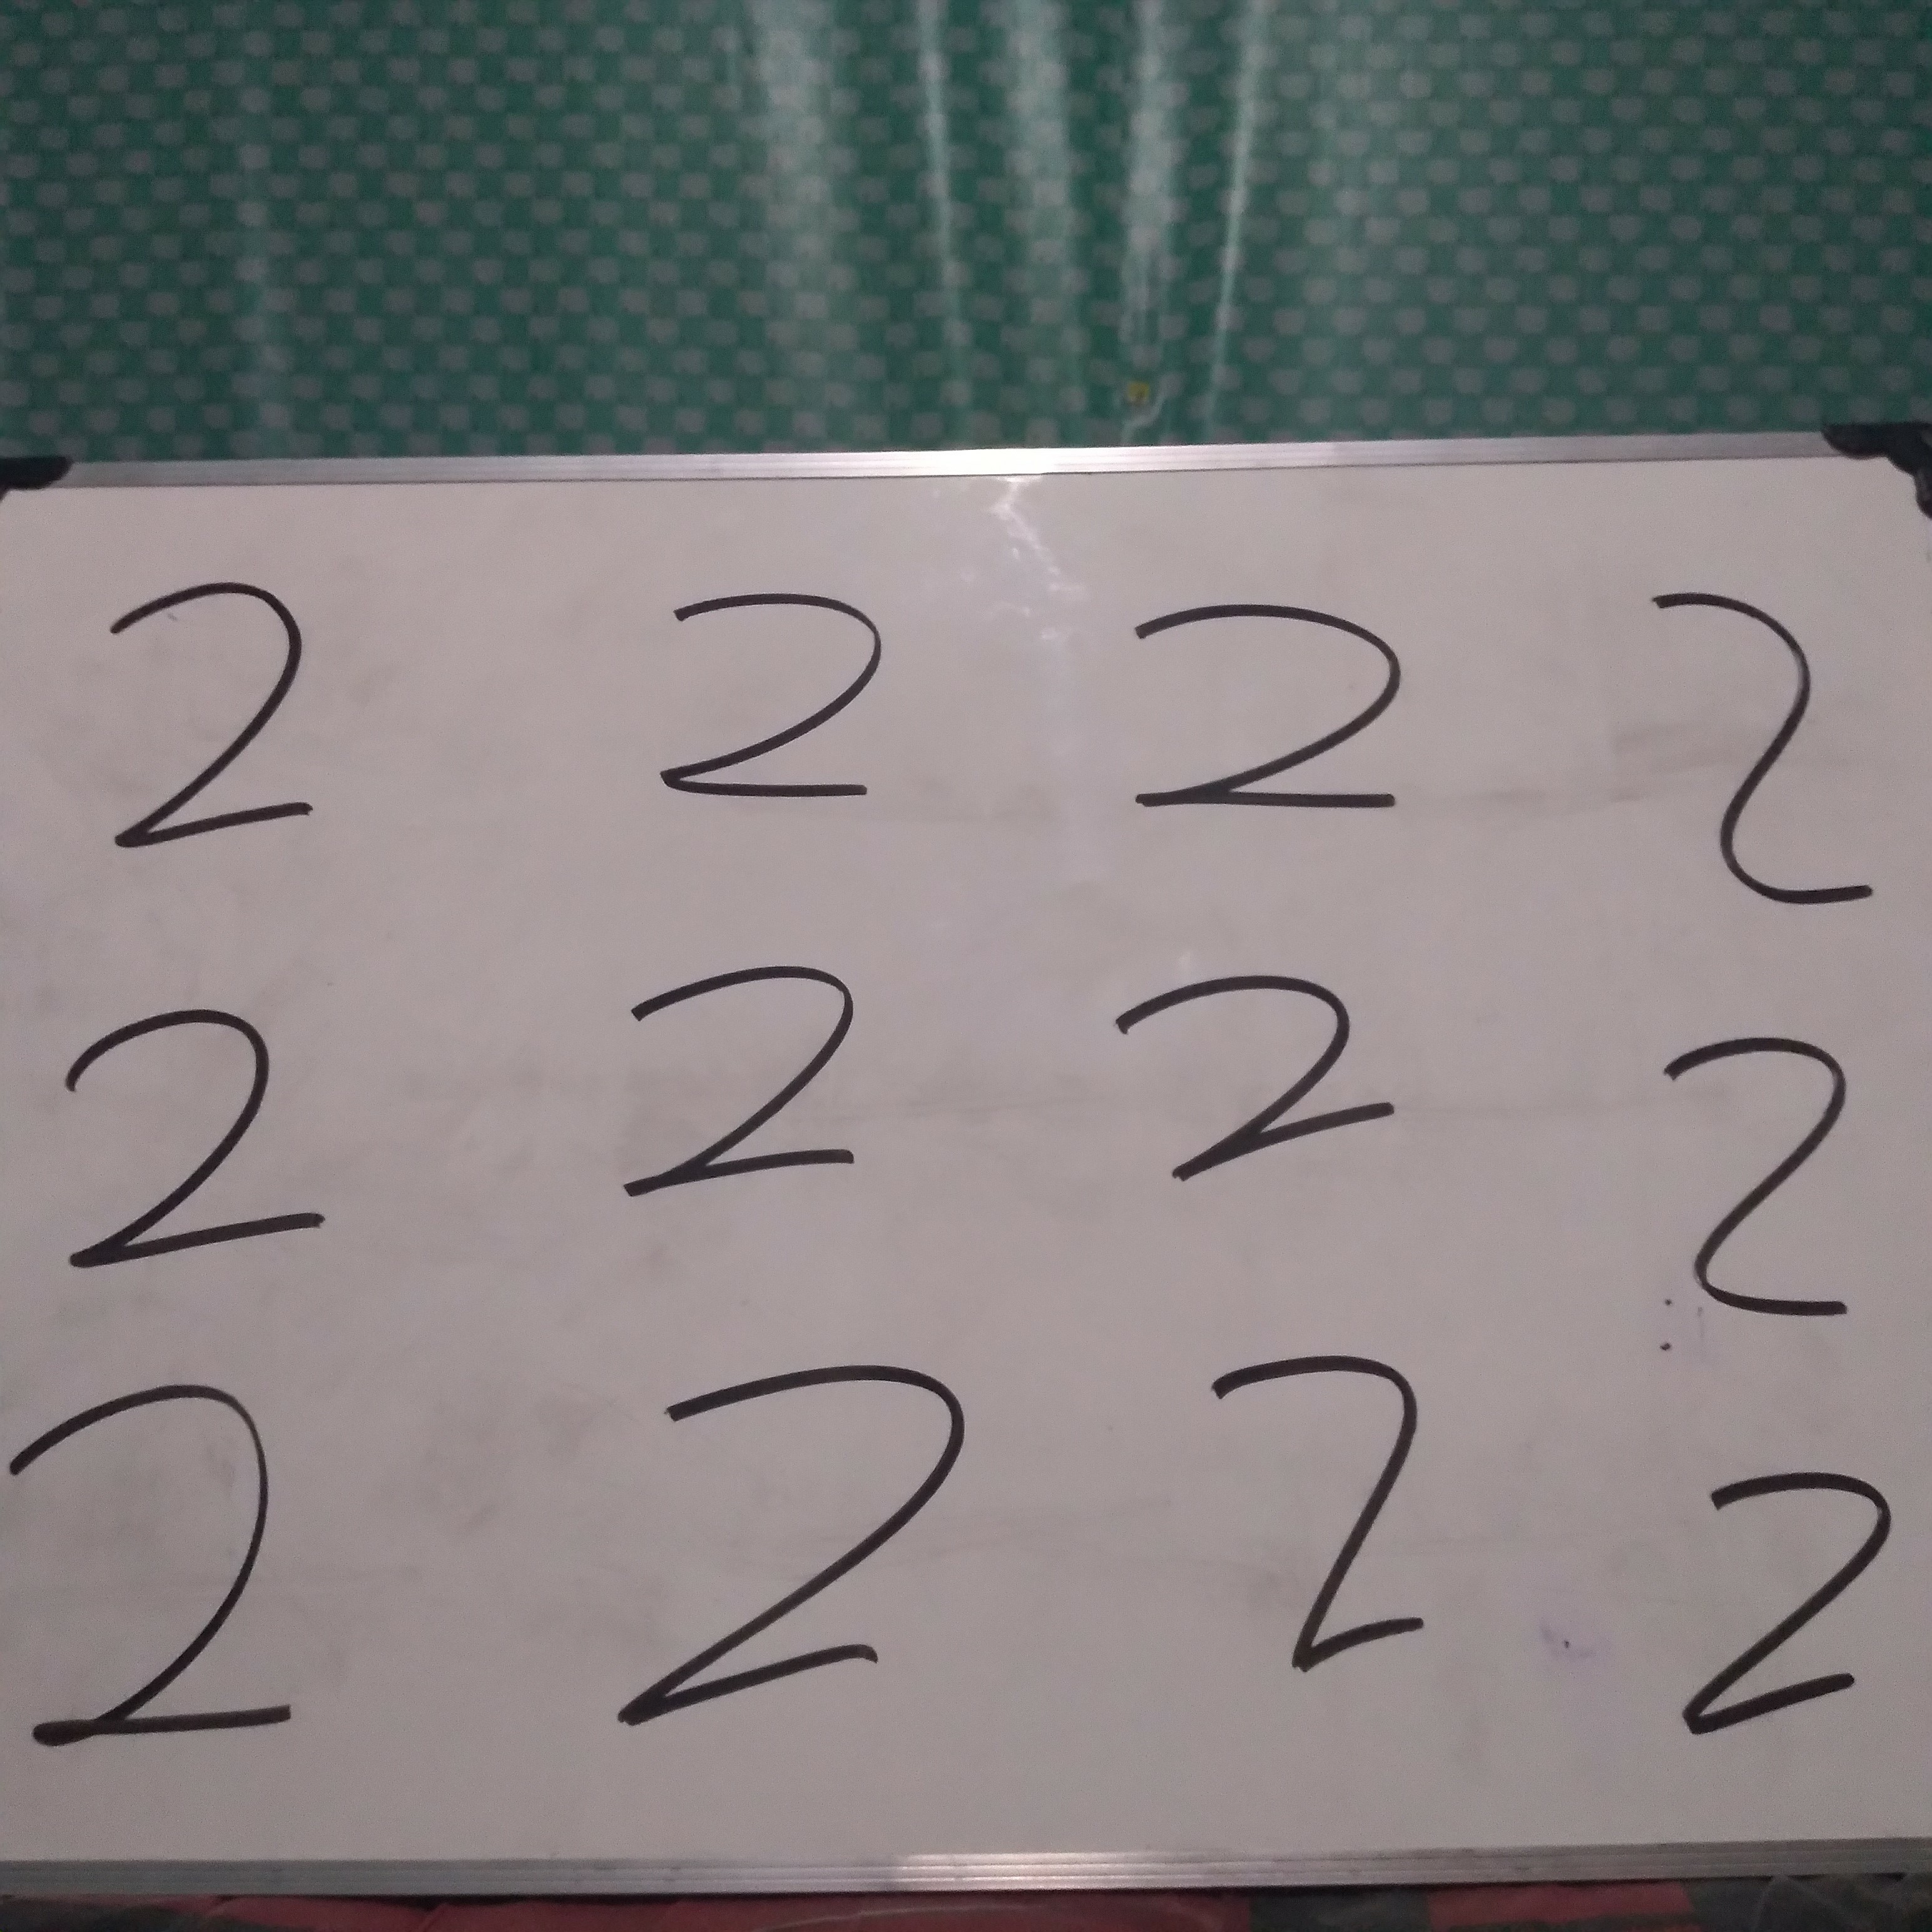num2: (592, 1330, 971, 1762), (1609, 1400, 1932, 1805), (1593, 975, 1916, 1380), (1598, 542, 1921, 947), (1, 1370, 323, 1775), (1161, 1303, 1483, 1707), (613, 928, 907, 1236), (1101, 913, 1395, 1222), (41, 970, 335, 1278), (609, 555, 903, 863), (1124, 556, 1419, 864), (87, 557, 331, 875)
